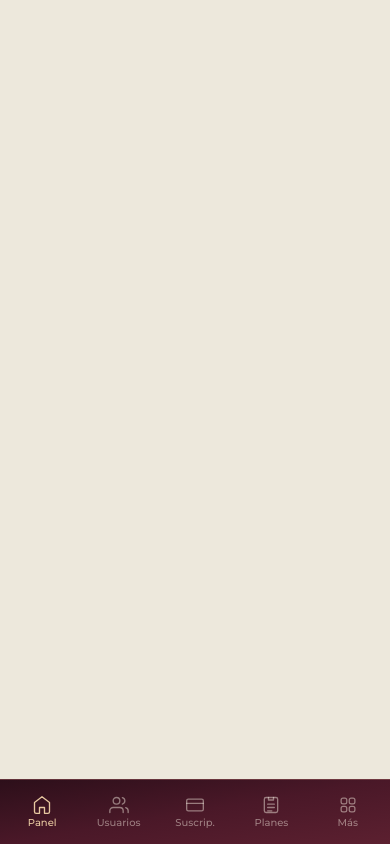
Test: AdminMobileBottomNav › shows Reportes (Pronto) and Cerrar sesión in the More sheet
Click the button "Más" at {"x": 348, "y": 812}, box [310, 787, 386, 837]
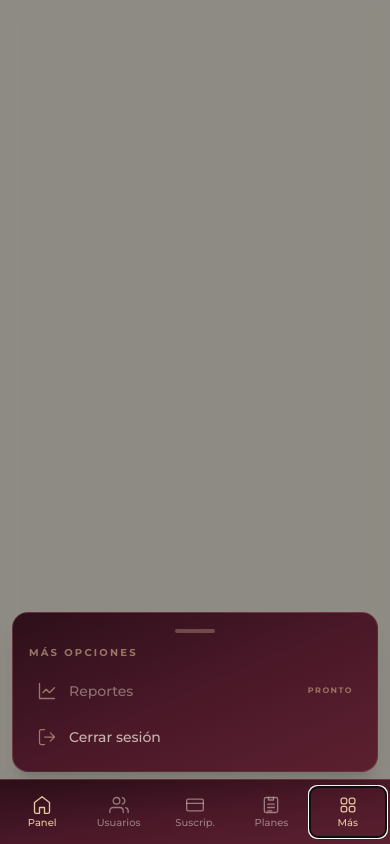
Now the text "Reportes" is shown, box [69, 682, 133, 700]
Now the text "Pronto" is shown, box [308, 685, 353, 697]
Now the text "Cerrar sesión" is shown, box [69, 728, 161, 746]
